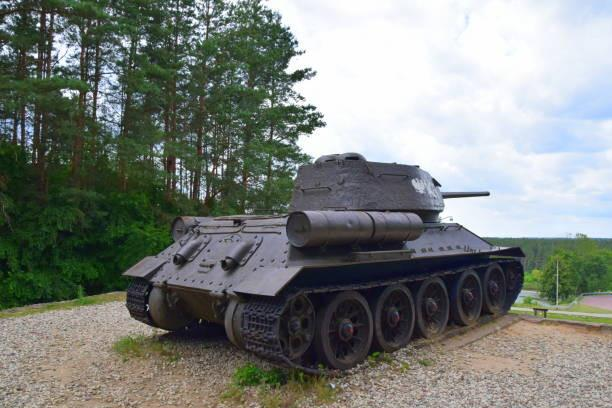tank: (122, 152, 525, 376)
